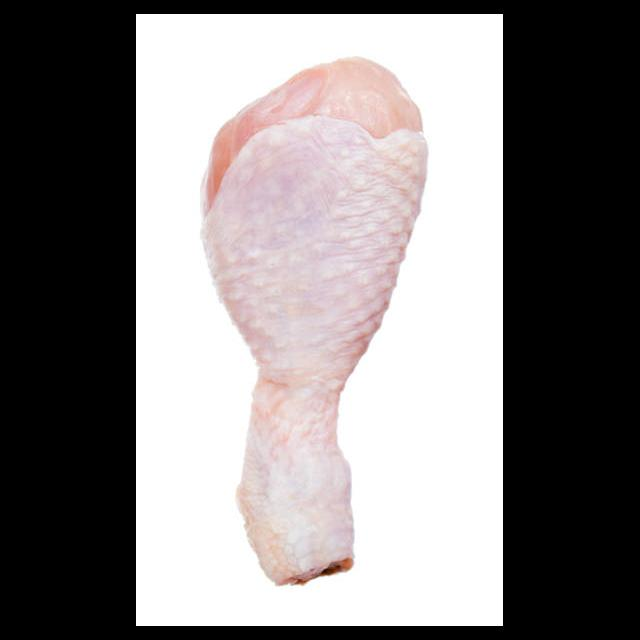chicken: (204, 54, 432, 589)
